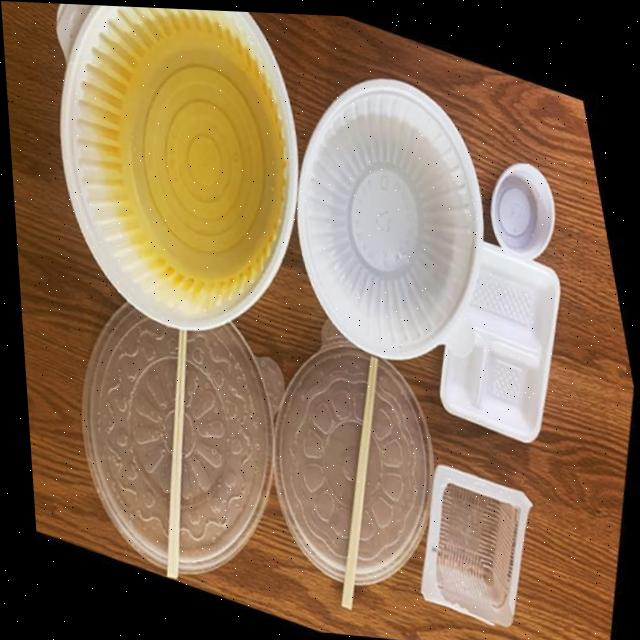disposable: (42, 1, 313, 331), (280, 40, 485, 370)
